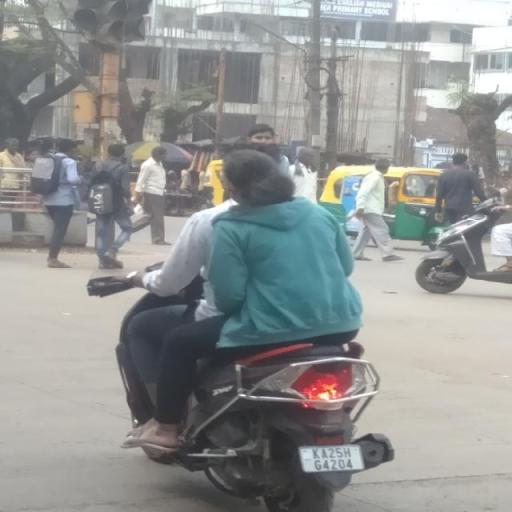bike: (78, 139, 415, 512)
numberplate: (296, 441, 363, 476)
withouthelmet: (221, 149, 285, 208)
